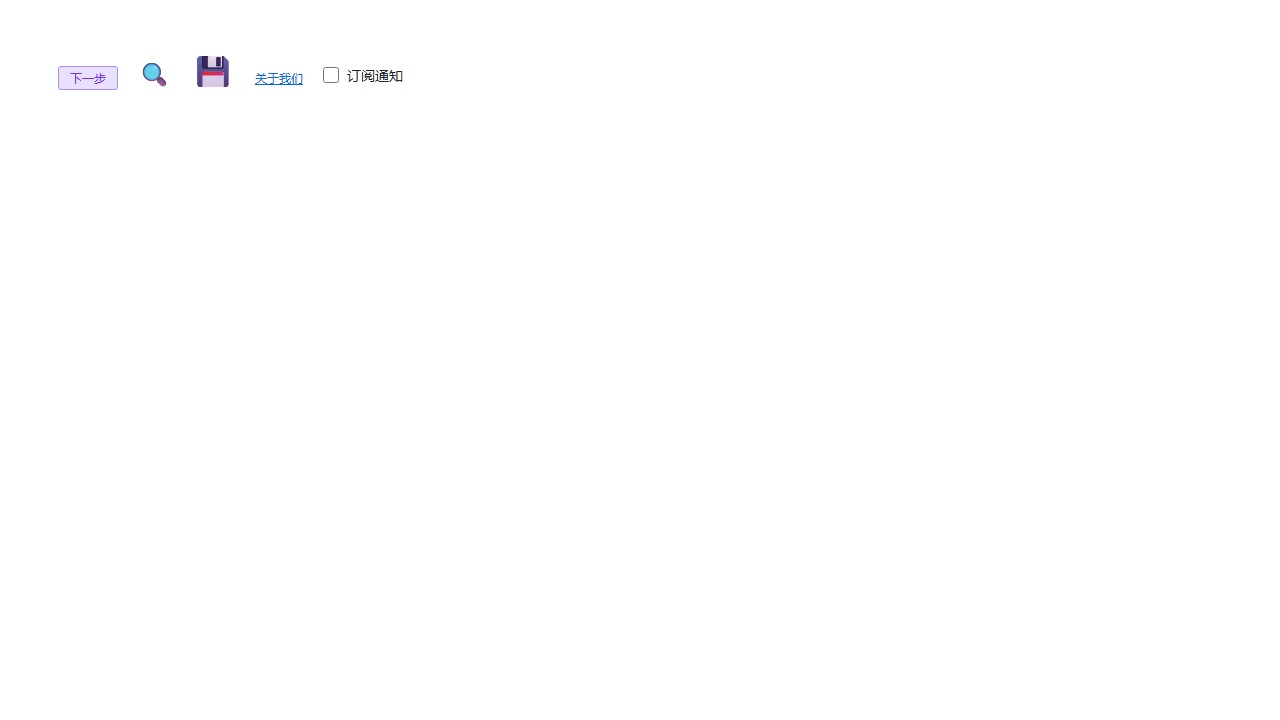button: (58, 66, 118, 90)
checkbox: (323, 67, 339, 83)
icon: (191, 54, 235, 86), (347, 66, 403, 85), (138, 61, 171, 85)
link: (255, 70, 303, 86)
radio: (323, 66, 403, 85)
